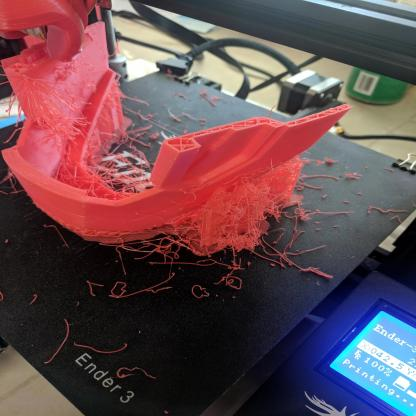fail: (182, 189, 344, 298), (16, 77, 95, 163), (75, 154, 151, 208)
